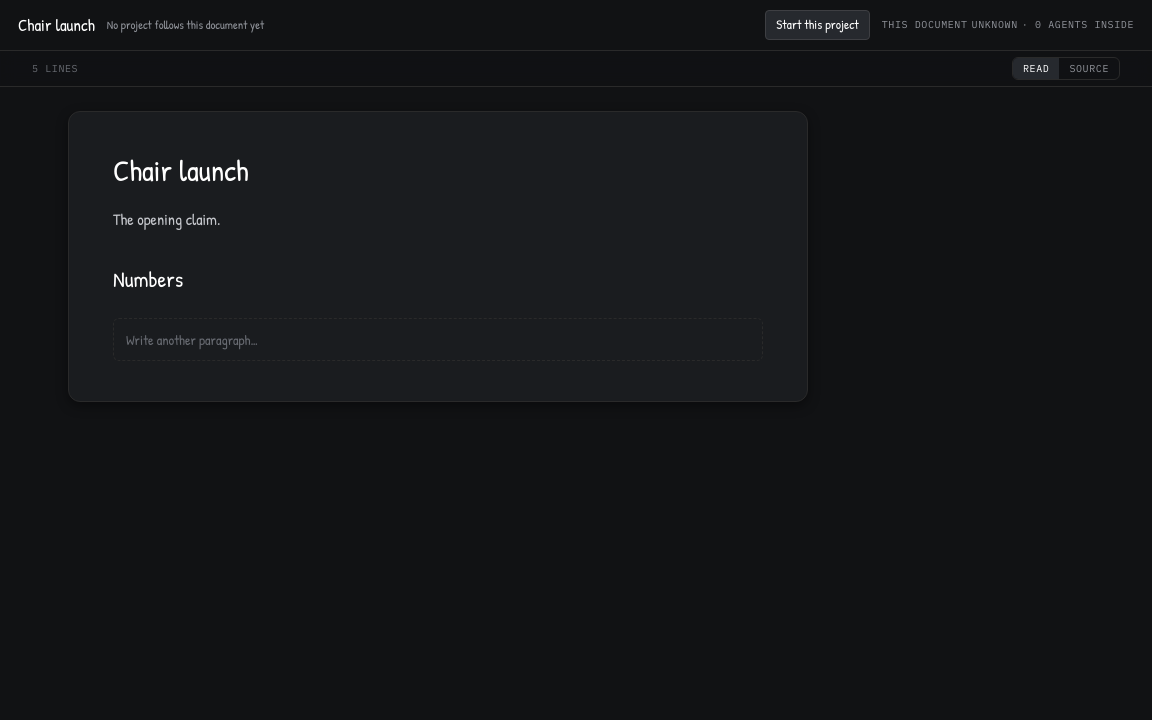
a save that does not land › a conflict is stated in the server's own words, and the text is still there
This screenshot has width=1152, height=720.
Click the element with test id "block-3" at [167, 219], box [113,208,220,230]
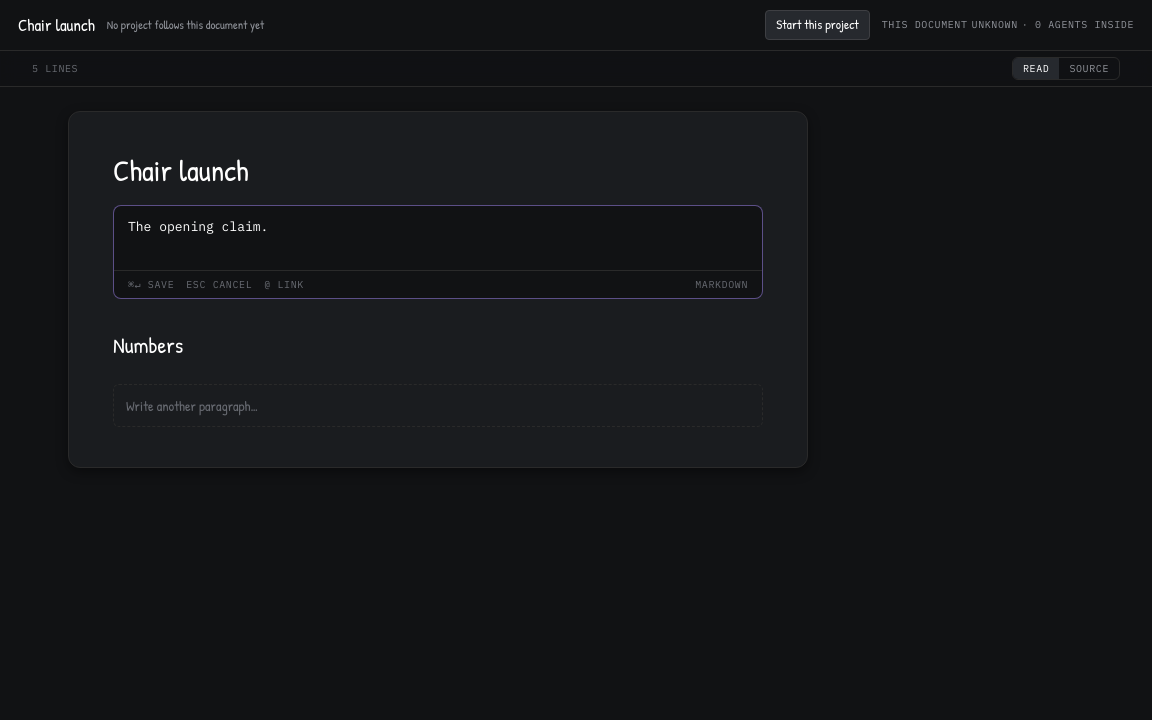
Replace the text in the text box with test id "block-editor" with "A shorter claim." at [438, 238], box [114,206,762,270]
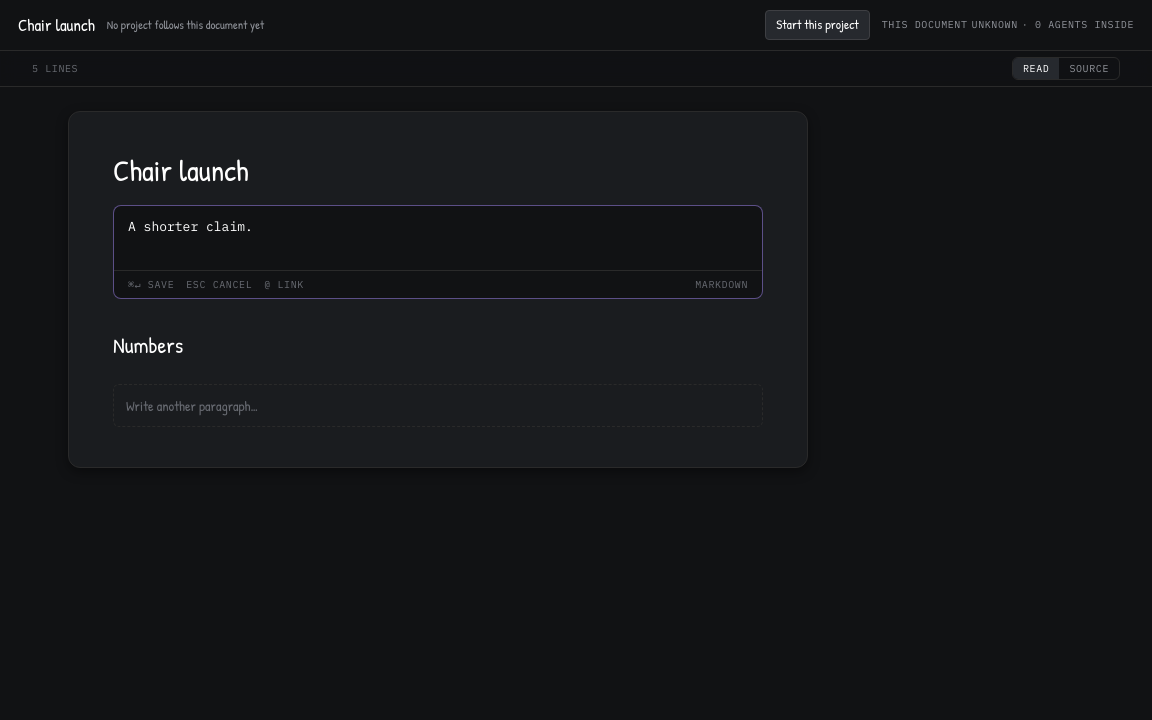
Press Enter in the text box with test id "block-editor", box [114,206,762,270]
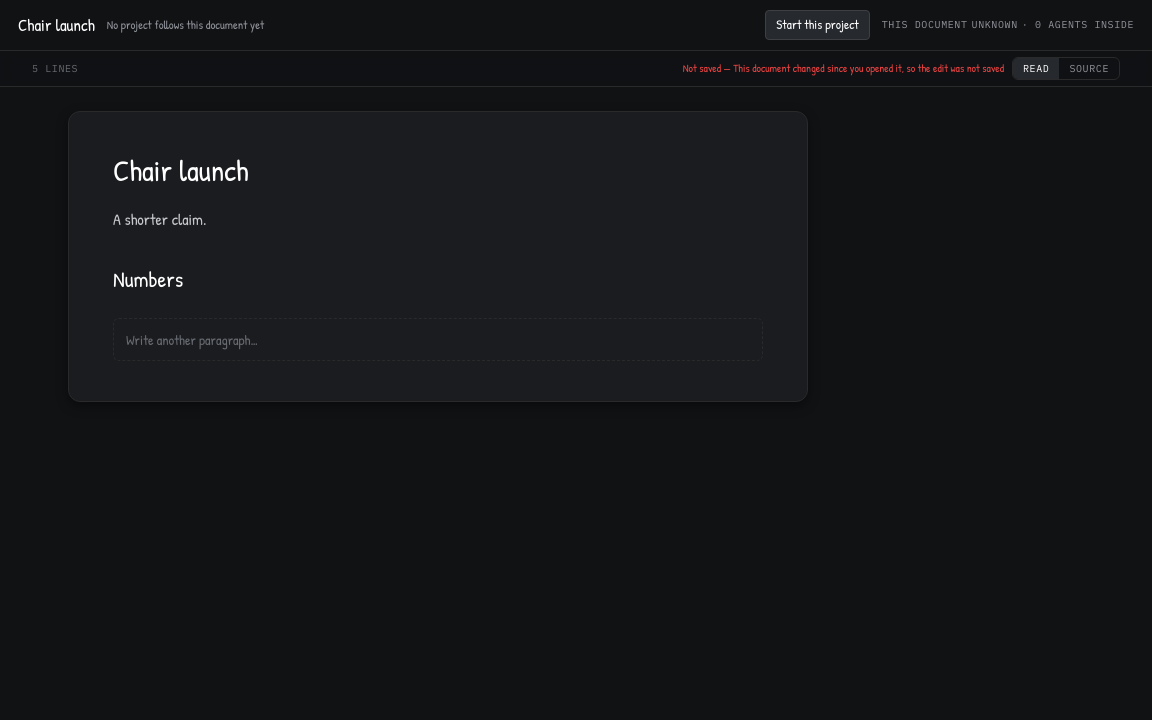
Result: the text with test id "save-error" is shown at [683,60,1004,76]
Result: the text with test id "save-error" shows "changed since you opened it" at [733,61,1004,75]
Result: the element with test id "document-paper" shows "A shorter claim." at [113,208,206,230]
